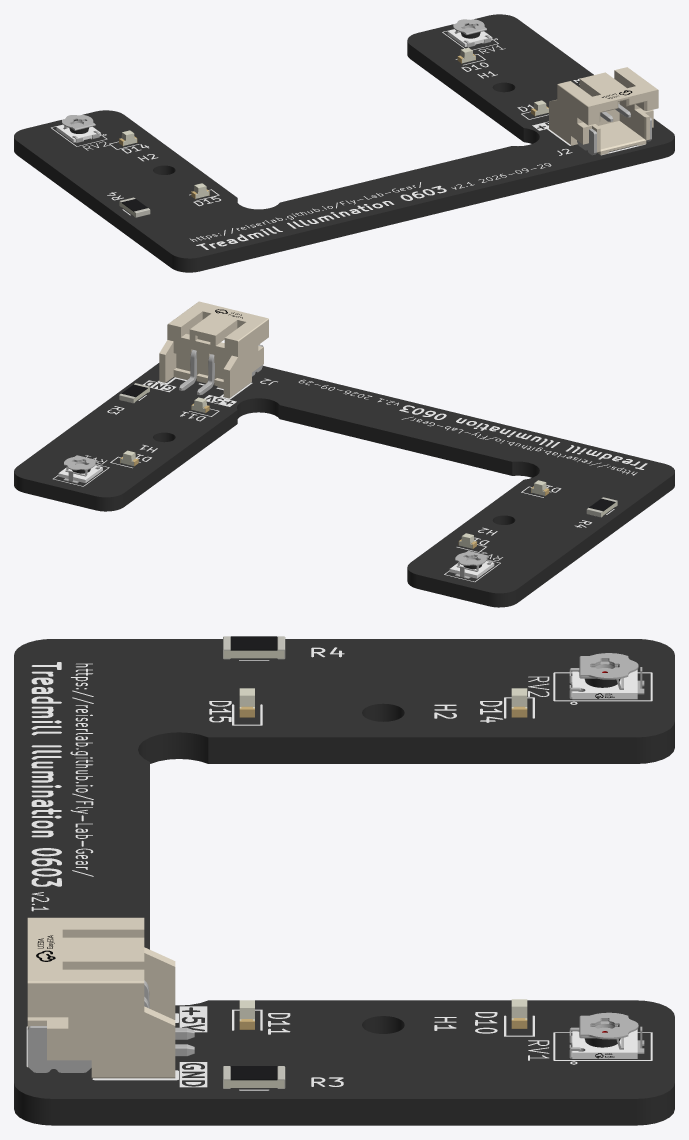
File: Treadmill-Illumination-v2-0603-v2.1.glb
3 renders of one model, top to bottom at view 1: azimuth 30°, elevation 25°; view 2: azimuth 150°, elevation 25°; view 3: azimuth 270°, elevation 25°, orthographic. The views are drawn at different scales.
Visible parts, largest first — view 1: =>[0:1:1:12], =>[0:1:1:9], =>[0:1:1:10], =>[0:1:1:7] (×2), =>[0:1:1:3]; view 2: =>[0:1:1:12], =>[0:1:1:9], =>[0:1:1:10], =>[0:1:1:7] (×2); view 3: =>[0:1:1:12], =>[0:1:1:9], =>[0:1:1:10], =>[0:1:1:7] (×2), =>[0:1:1:3] (×2).
Boxes of the visible parts, x1,y1,x2,y2 form: =>[0:1:1:12]: (14,14,674,272); =>[0:1:1:9]: (549,67,658,155); =>[0:1:1:10]: (51,29,645,249); =>[0:1:1:7] (×2): (56,19,492,143); =>[0:1:1:3]: (119,197,150,217); =>[0:1:1:12]: (14,363,674,607); =>[0:1:1:9]: (159,301,268,398); =>[0:1:1:10]: (53,377,647,581); =>[0:1:1:7] (×2): (58,455,494,578); =>[0:1:1:12]: (14,639,674,1125); =>[0:1:1:9]: (27,917,194,1078); =>[0:1:1:10]: (26,647,652,1090); =>[0:1:1:7] (×2): (569,653,644,1058); =>[0:1:1:3] (×2): (223,636,285,1088).
Size of the model in its own units: 0.056 by 0.00717 by 0.034.
